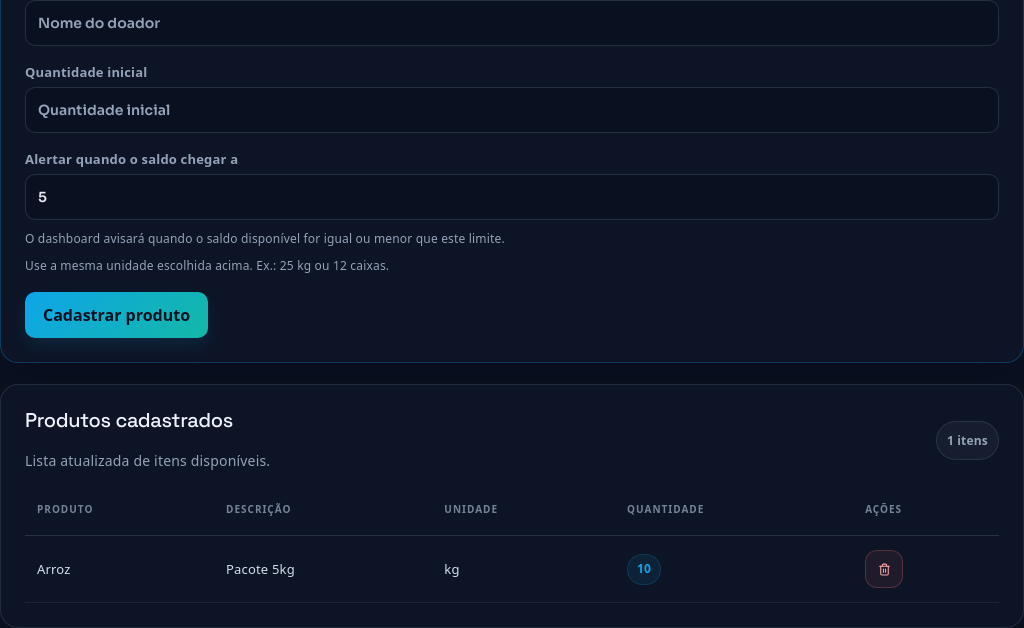
Scenario: exclui um produto apos confirmacao no dialogo
(page scrolled)
Expected: the text "Arroz" is shown, x1=25 y1=536 x2=214 y2=603
What coordinates should you click on to do the following:
click the button named "excluir produto arroz"
I would click on:
 (884, 569)
Its box is x1=865 y1=550 x2=903 y2=588.
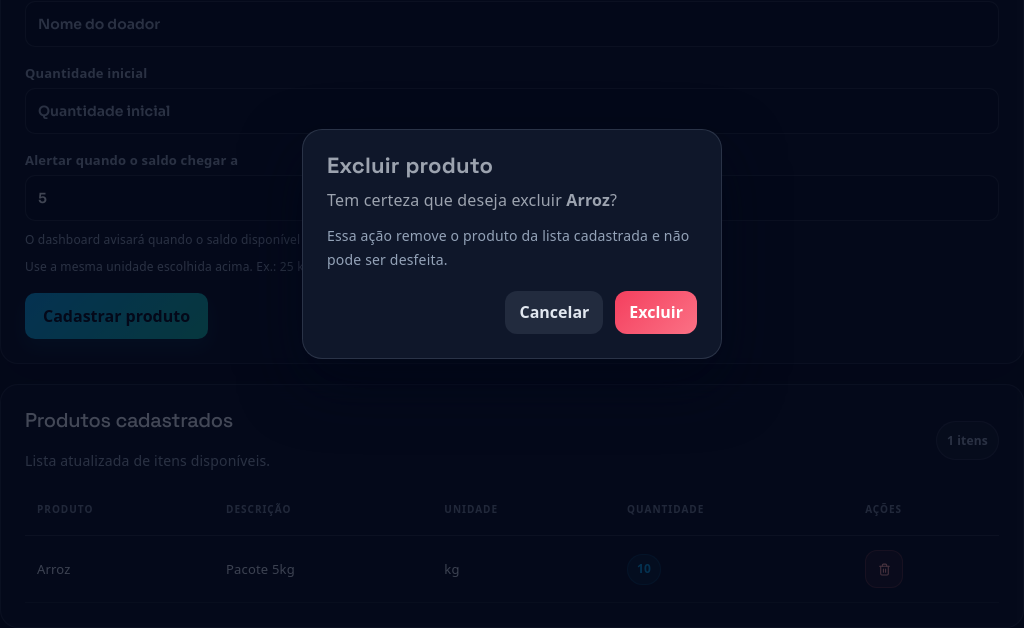
Now the text "Tem certeza que deseja excluir Arroz?" is shown, box x1=327 y1=189 x2=617 y2=211
What coordinates should you click on to do the following:
click the button "Excluir"
I would click on:
 (656, 312)
Its box is x1=615 y1=291 x2=697 y2=334.
(page scrolled)
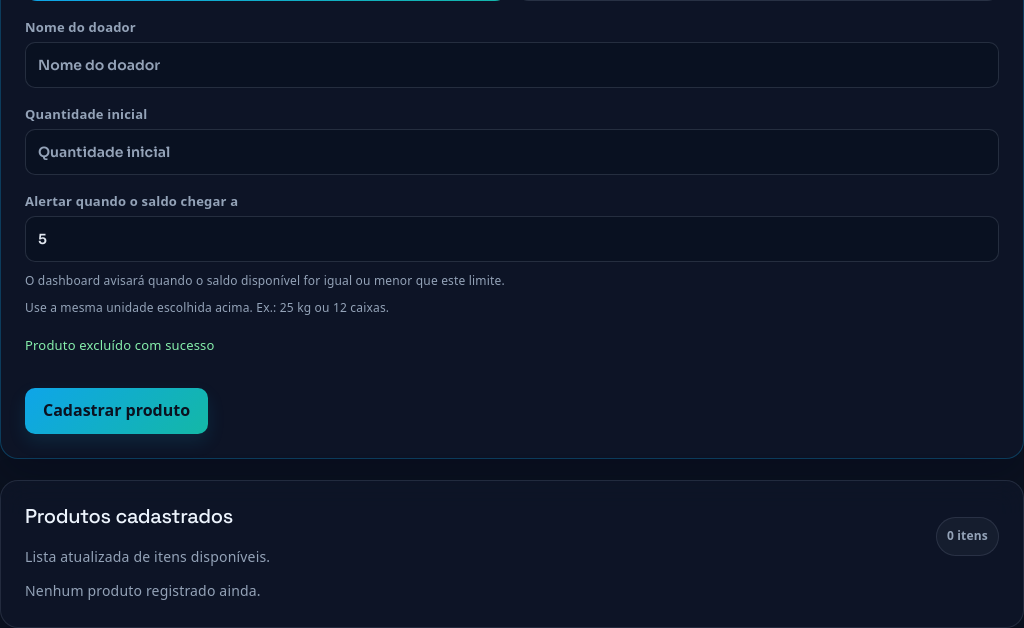
Now the text "Produto excluído com sucesso" is shown, box x1=25 y1=336 x2=215 y2=354
Now the text "Arroz" is gone
